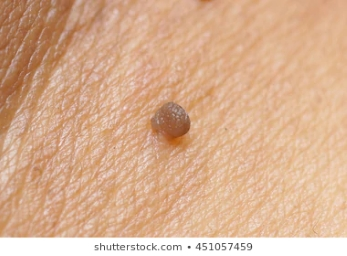seborrheic keratosis: (136, 83, 201, 149)
